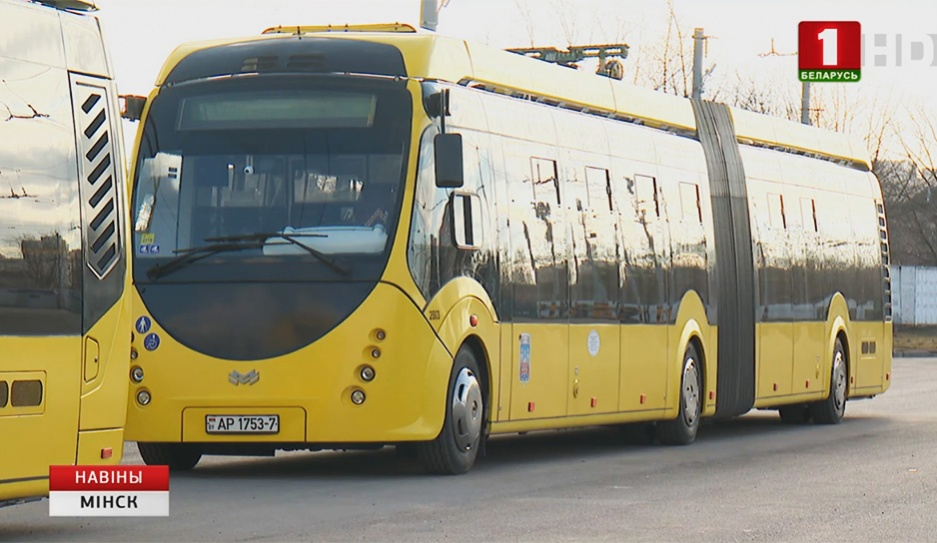bus: (129, 22, 898, 479)
